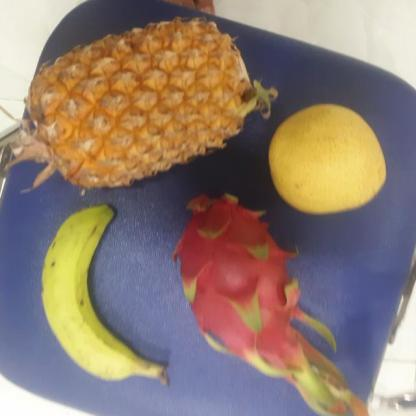banana: (38, 207, 160, 380)
pear: (266, 103, 389, 214)
pineapple: (28, 4, 252, 189)
pitaya: (164, 191, 318, 383)
